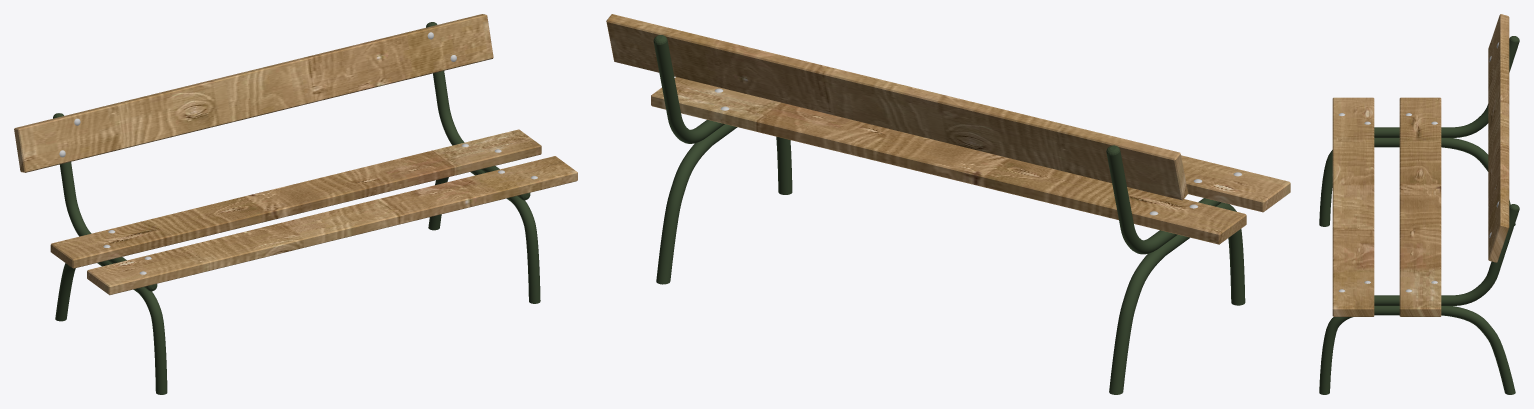
The model's file is ActualBench.FBX.
The picture shows the model from 3 angles, left to right: view 1: azimuth 30°, elevation 25°; view 2: azimuth 150°, elevation 25°; view 3: azimuth 270°, elevation 25°; orthographic projection. The views are drawn at different scales.
Parts seen in each view (by area): view 1: Object01; view 2: Object01; view 3: Object01.
Boxes of the visible parts, x1,y1,x2,y2 form: Object01: [14, 14, 577, 394]; Object01: [606, 14, 1290, 394]; Object01: [1319, 14, 1519, 394].
Bounding box in the file's own units: 205 × 85.88 × 82.4.
